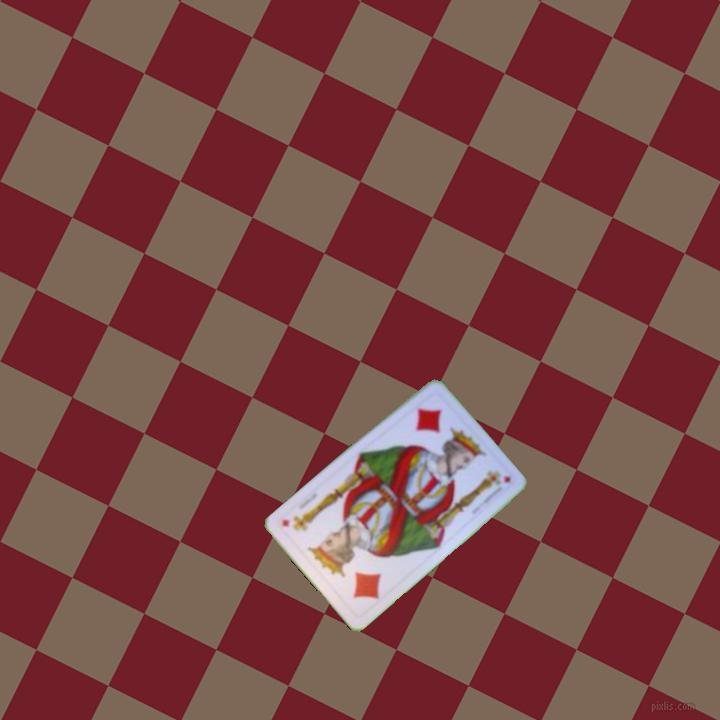d_k.png: (314, 534, 400, 620), (391, 387, 476, 474)
